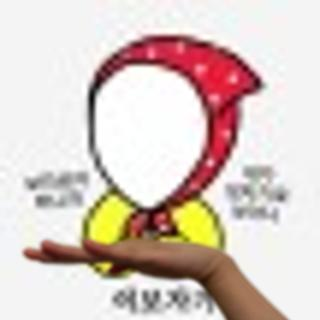WAIT: (17, 228, 227, 285)
